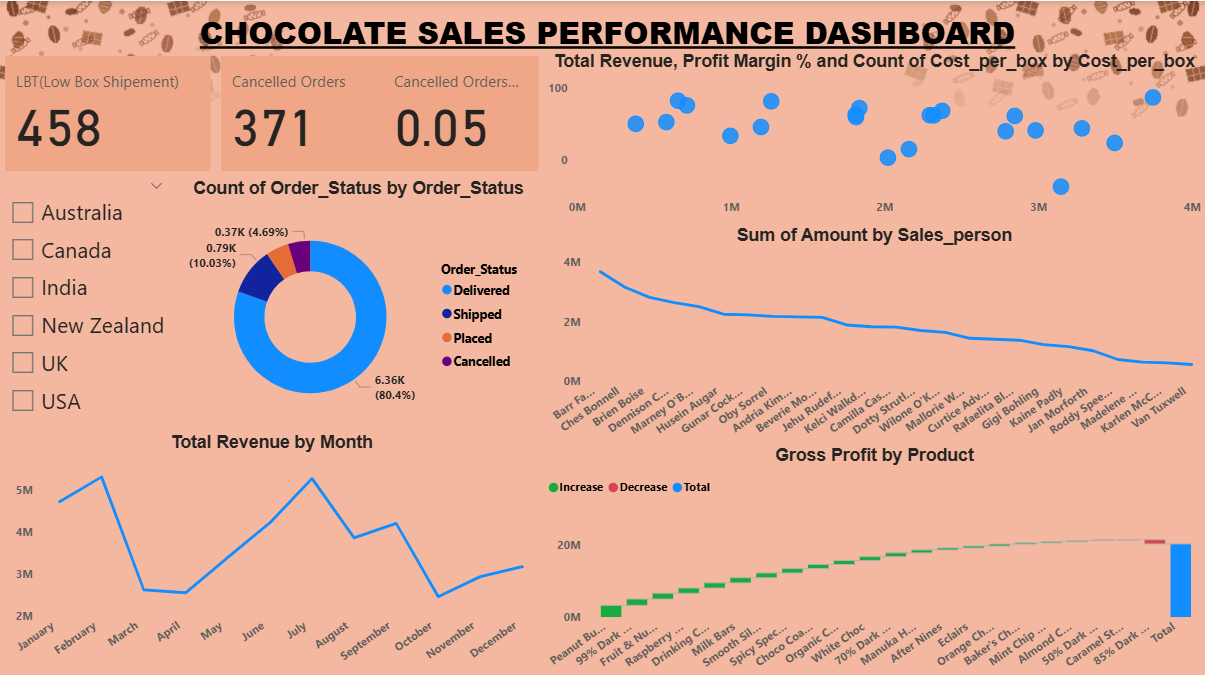

The dashboard page shown, as its layout file describes it:
{"tool":"powerbi","page":{"name":"Page 04","canvas":[1280,720],"ordinal":3},"visuals":[{"type":"slicer","fields":{"Values":["locations.Geo"]},"box":[0,189,185.2,268.3],"z":0},{"type":"lineChart","fields":{"Y":["Sum(shipments.Amount)"],"Category":["people.Sales_person"]},"box":[576.4,238.1,703,234.3],"z":1000},{"type":"textbox","box":[9.5,6.4,1269.3,58.9],"z":2000},{"type":"waterfallChart","fields":{"Category":["products.Product"],"Y":["calendar.Gross Profit"]},"box":[576.4,472.4,703,247.6],"z":3000},{"type":"scatterChart","fields":{"X":["calendar.Total Revenue"],"Y":["calendar.Profit Margin %"],"Category":["products.Cost_per_box"],"Size":["CountNonNull(products.Cost_per_box)"]},"box":[576.4,54.8,703,183.3],"z":4000},{"type":"cardVisual","fields":{"Data":["calendar.Cancelled Orders","calendar.Cancelled Orders Rate"]},"box":[228.7,54.8,347.7,132.3],"z":5000},{"type":"cardVisual","fields":{"Data":["calendar.LBT"]},"box":[0,54.8,228.7,132.3],"z":6000},{"type":"donutChart","fields":{"Category":["shipments.Order_Status"],"Y":["CountNonNull(shipments.Order_Status)"]},"box":[185.2,189,391.2,268.3],"z":7000},{"type":"lineChart","fields":{"Y":["calendar.Total Revenue"],"Category":["calendar.cal_date.Variation.Date Hierarchy.Month"]},"box":[0,457.3,576.4,262.7],"z":8000}]}

Visuals, with their boxes in screenshot pixels (x1, y1, x2, y2), scaled from the page's 1280x720 canvas onto the 1205x675 screenshot:
slicer - locations.Geo: [0, 177, 174, 429]
lineChart - Sum(shipments.Amount) x people.Sales_person: [543, 223, 1204, 443]
textbox: [9, 6, 1204, 61]
waterfallChart - products.Product x calendar.Gross Profit: [543, 443, 1204, 674]
scatterChart - calendar.Total Revenue x calendar.Profit Margin %: [543, 51, 1204, 223]
cardVisual - calendar.Cancelled Orders x calendar.Cancelled Orders Rate: [215, 51, 543, 175]
cardVisual - calendar.LBT: [0, 51, 215, 175]
donutChart - shipments.Order_Status x CountNonNull(shipments.Order_Status): [174, 177, 543, 429]
lineChart - calendar.Total Revenue x calendar.cal_date.Variation.Date Hierarchy.Month: [0, 429, 543, 674]
